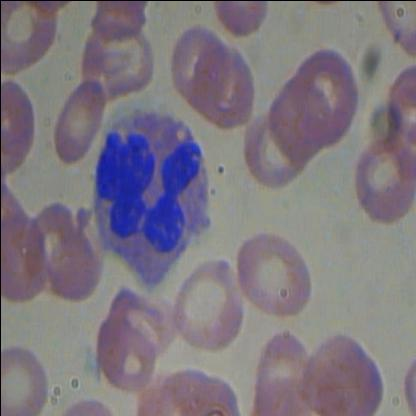RBC: (231, 221, 317, 324), (166, 246, 240, 361), (290, 43, 366, 139), (296, 326, 368, 416), (356, 127, 416, 226), (82, 312, 158, 390), (166, 19, 228, 105), (104, 283, 172, 358), (199, 42, 262, 122), (50, 75, 105, 164), (0, 337, 59, 415)
WBC: (82, 98, 220, 302)
